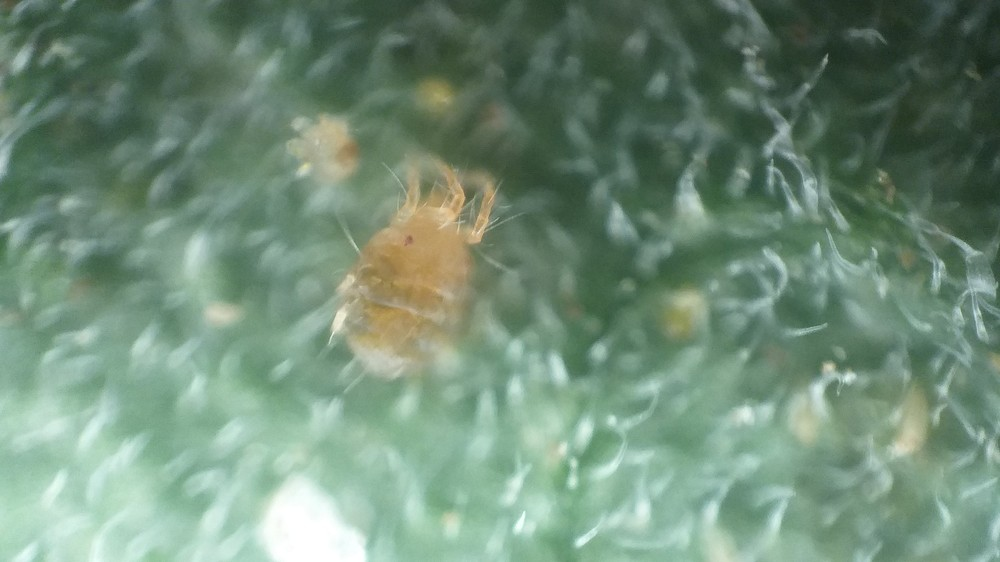Aracnido Rojo: (306, 145, 511, 386)
